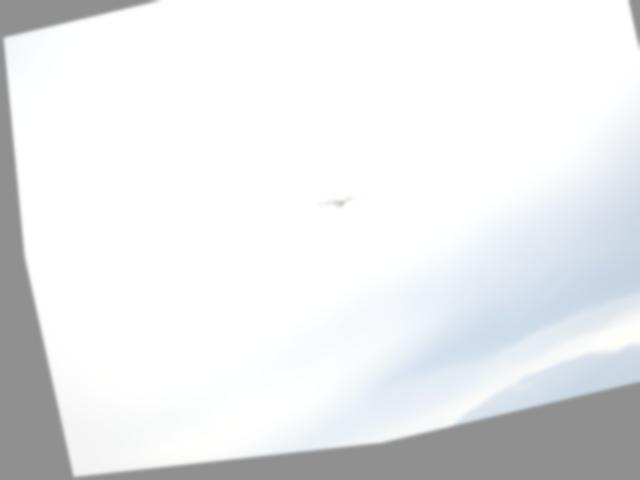plane: (307, 196, 358, 222)
